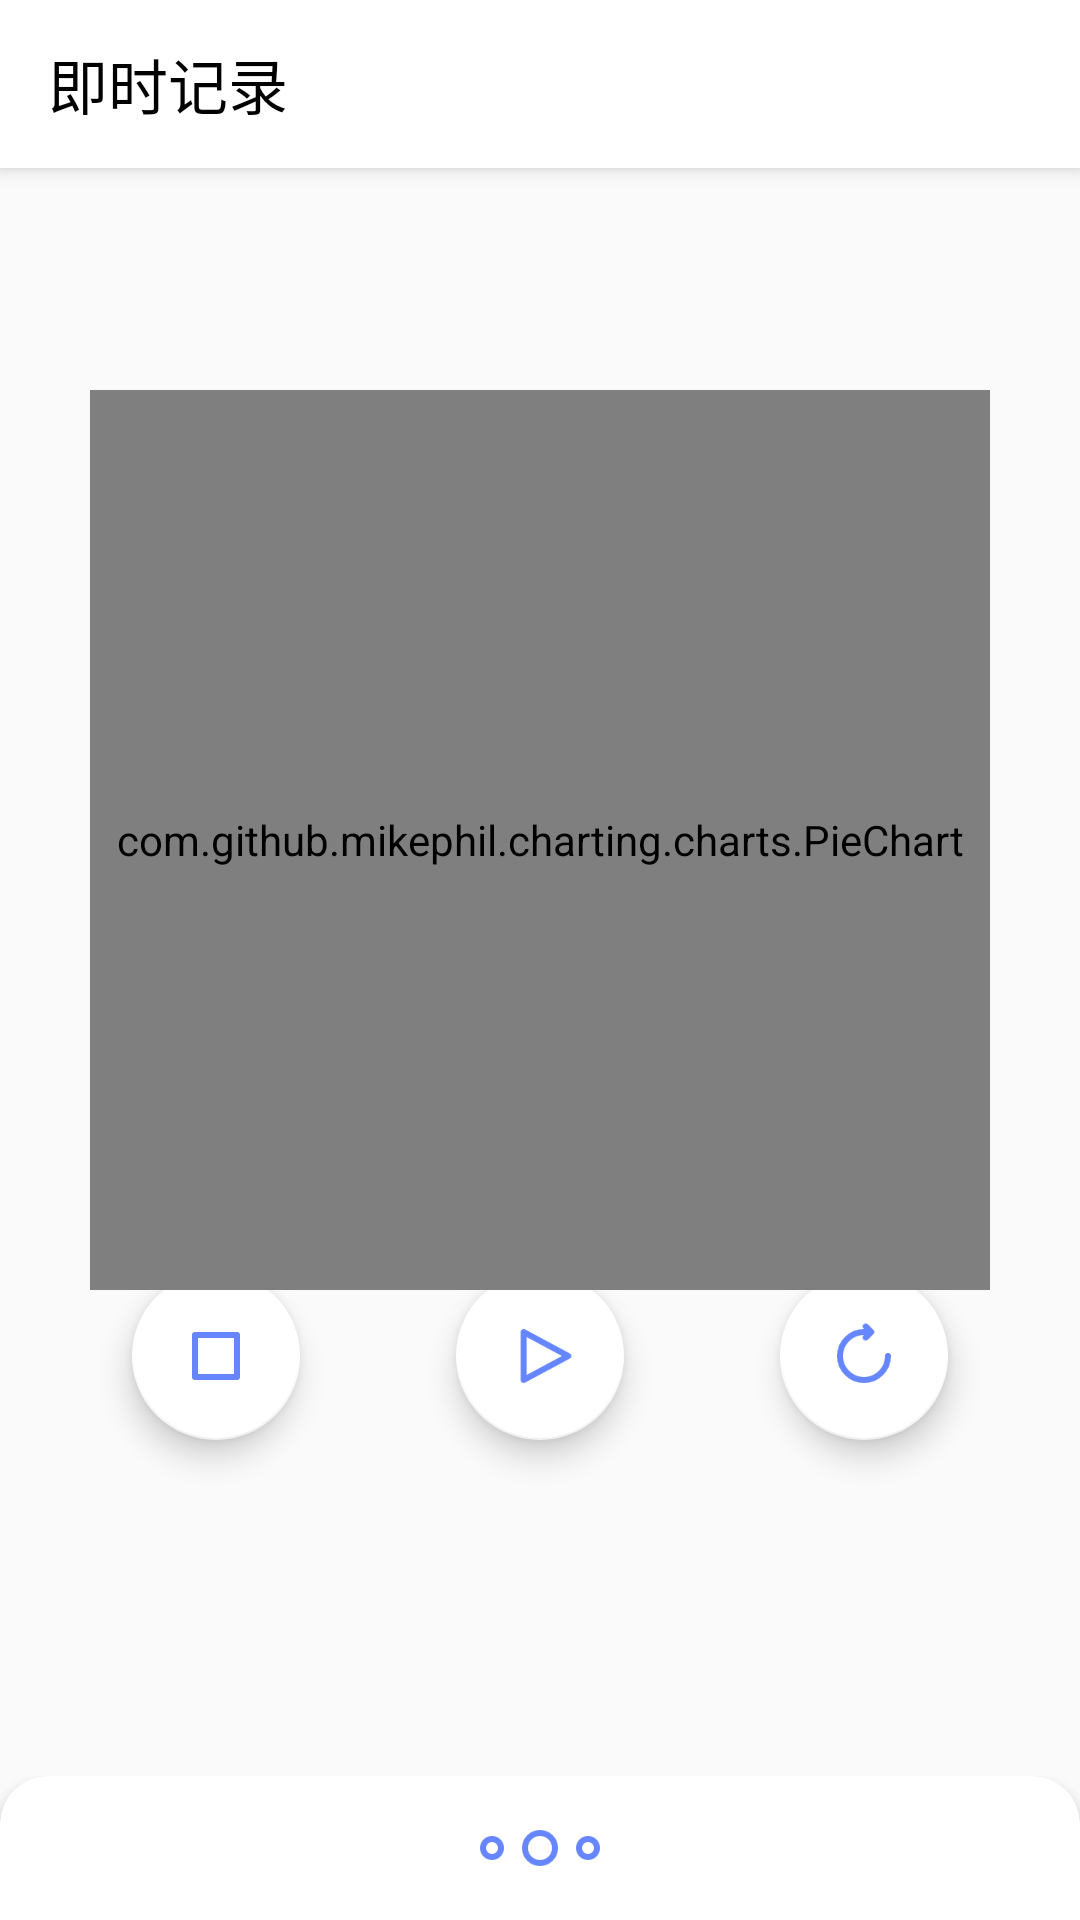

Screen size 1080 x 1920. Icon name, then its center in pixels as (x,y):
end: (216,1356)
restart: (864,1356)
start: (540,1356)
